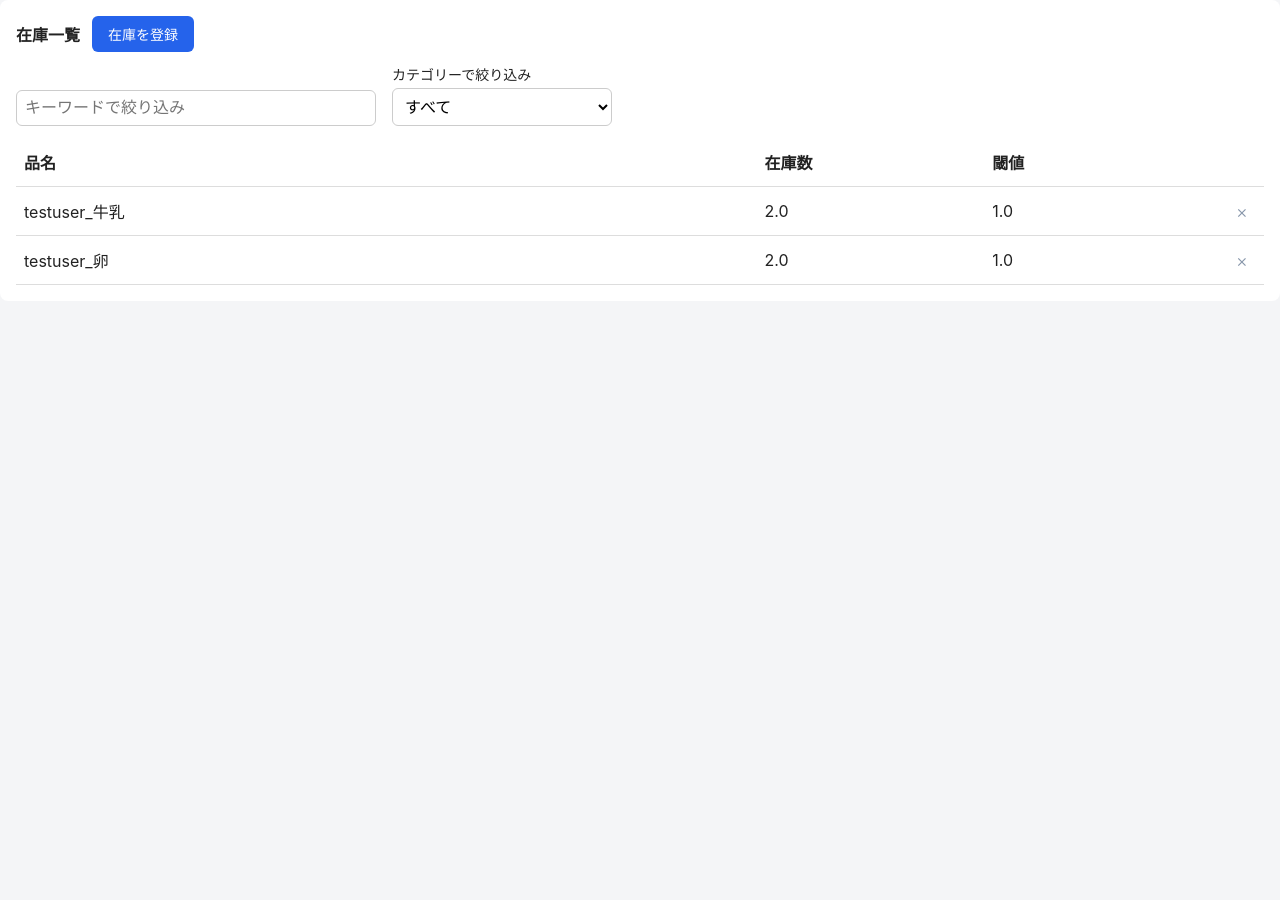
Test: 在庫の削除(×ボタンと確認ダイアログ) › キャンセルでは削除せず、フォーカスを×ボタンへ戻す
The width and height of the screenshot is (1280, 900).
Click the button named "testuser_牛乳を削除": point(1242, 212) [1220,187,1264,236]
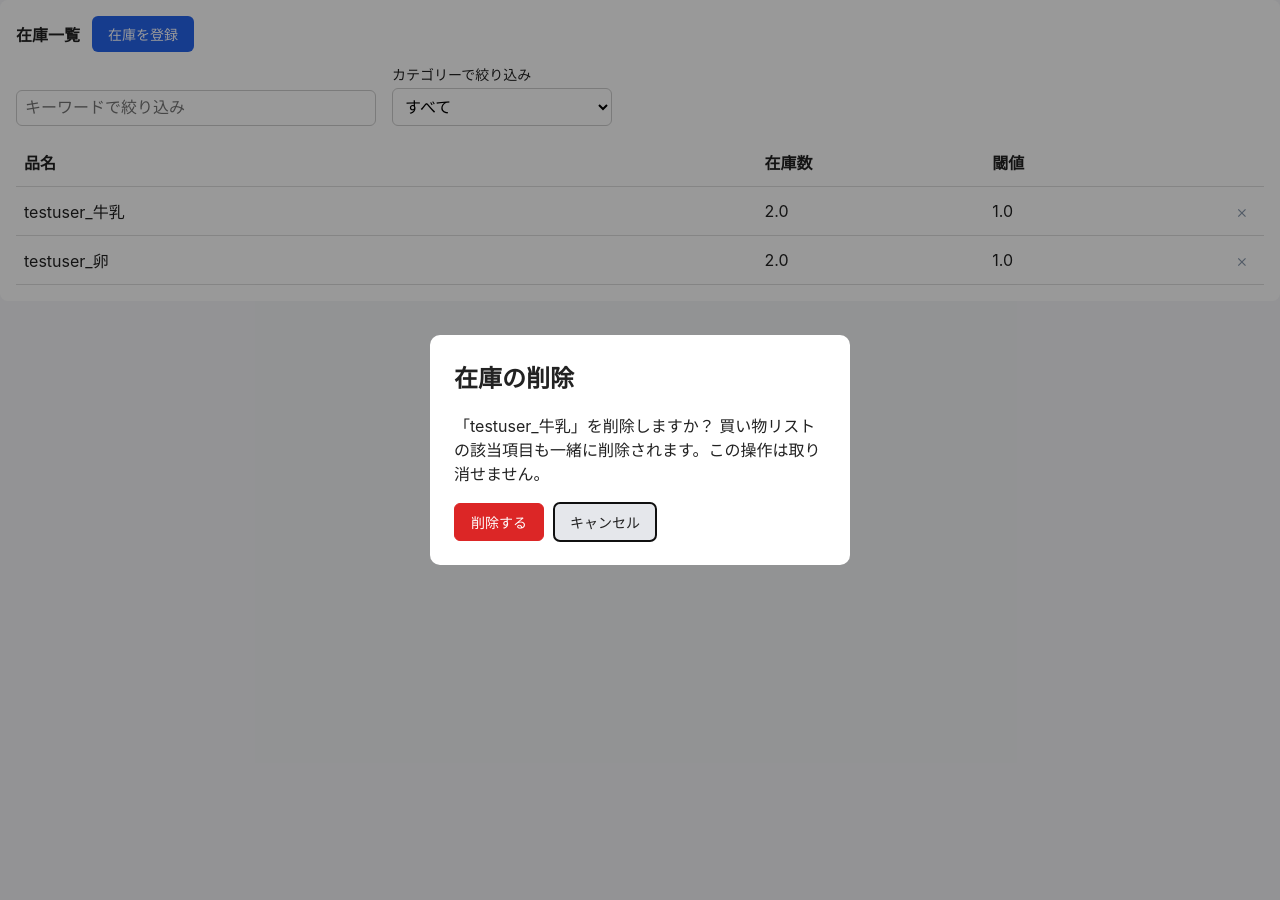
Click the button "キャンセル": point(605, 522) [554,504,656,542]
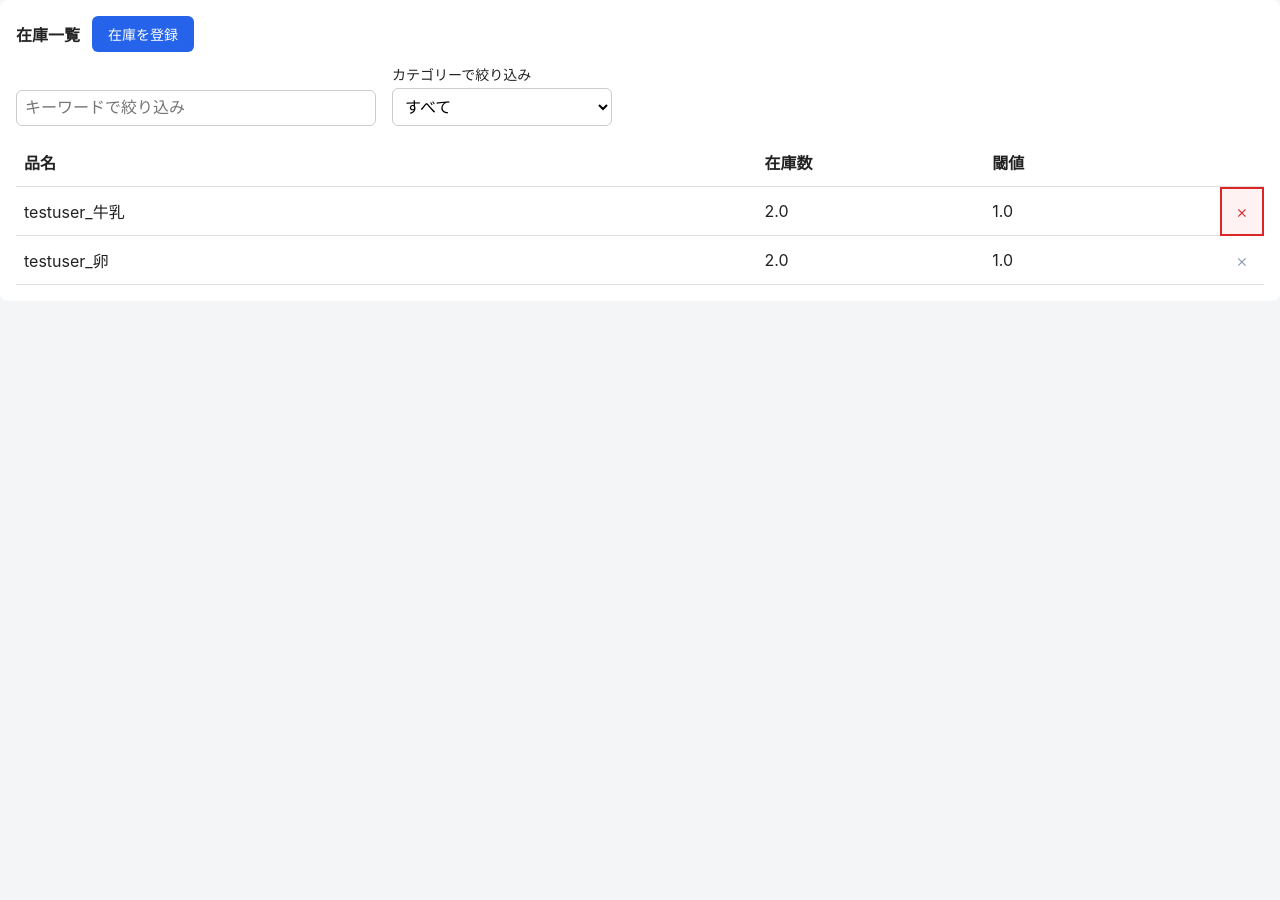
expect the dialog is gone: met
